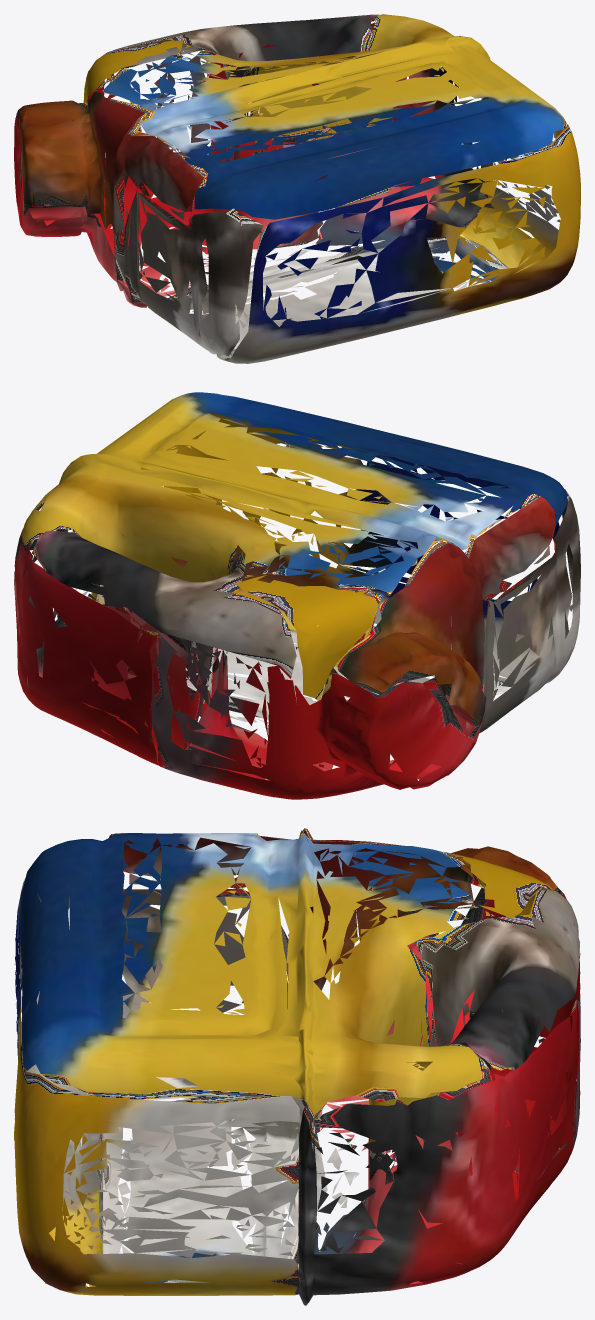
Rendered from plastik-waschmittelflasche.glb.
3 views of the same model, one above another, from view 1: azimuth 30°, elevation 25°; view 2: azimuth 150°, elevation 25°; view 3: azimuth 270°, elevation 25° (orthographic). The views are drawn at different scales.
Parts seen in each view (by area): view 1: plastik-waschmittelflasche; view 2: plastik-waschmittelflasche; view 3: plastik-waschmittelflasche.
Boxes of the visible parts, x1=… form: plastik-waschmittelflasche: x1=14, y1=14, x2=580, y2=363; plastik-waschmittelflasche: x1=14, y1=392, x2=580, y2=799; plastik-waschmittelflasche: x1=14, y1=828, x2=580, y2=1305.
Size of the model in its own units: 0.1331 by 0.0608 by 0.1134.
1 material, 1 textured.
